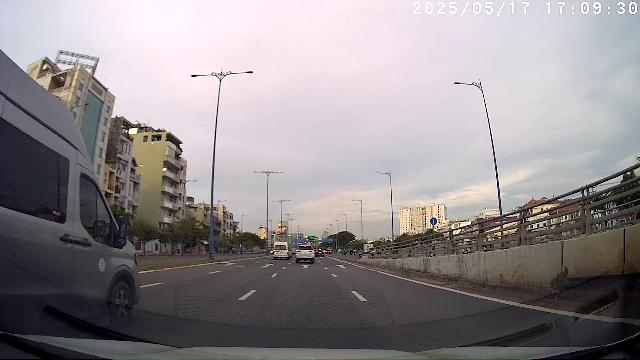301a-cac-xe-chi-duoc-di-thang: (430, 218, 438, 224)
